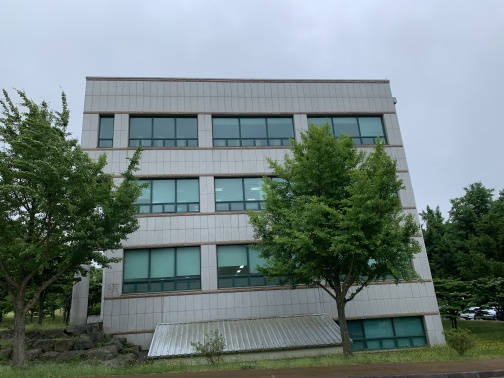Second Library: (77, 67, 447, 360)
